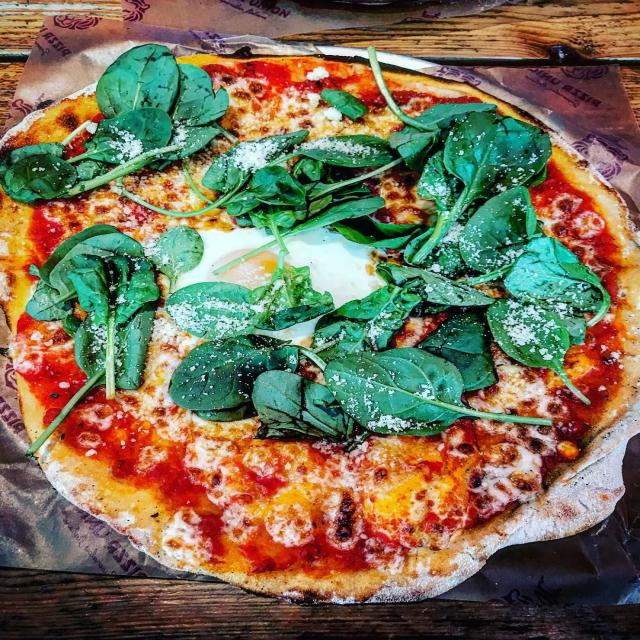pizza: (0, 51, 640, 608)
